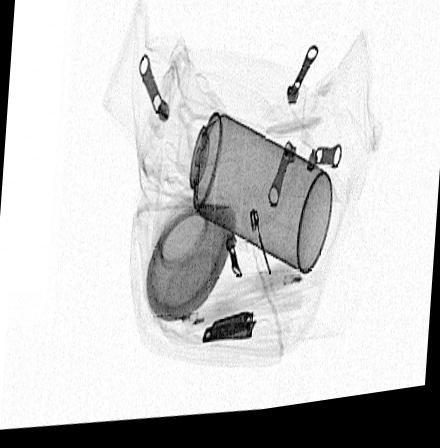Sprayer: (157, 103, 332, 282)
